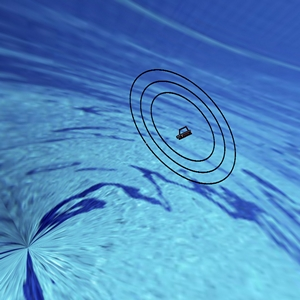circle: (110, 51, 254, 195)
submarine: (174, 116, 195, 146)
